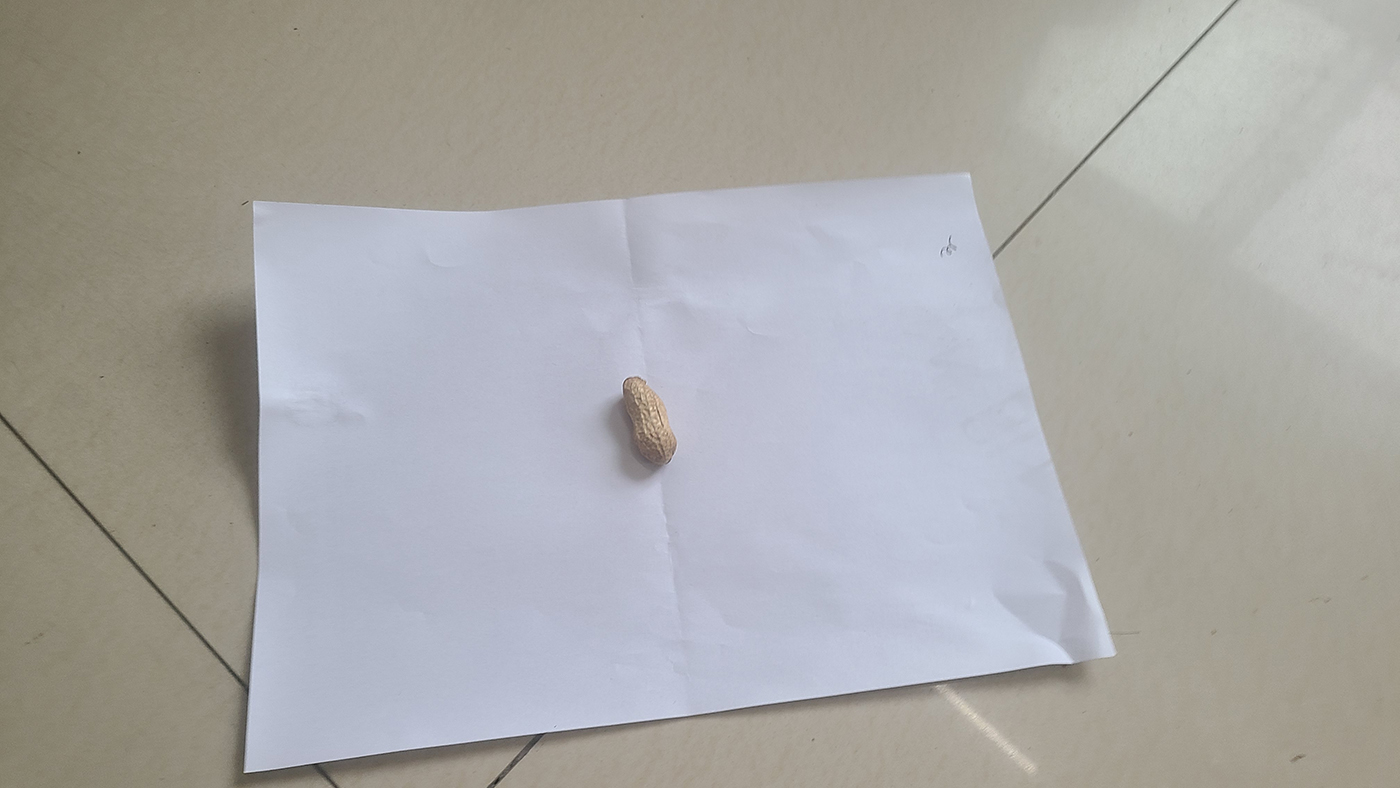h: (620, 372, 677, 467)
